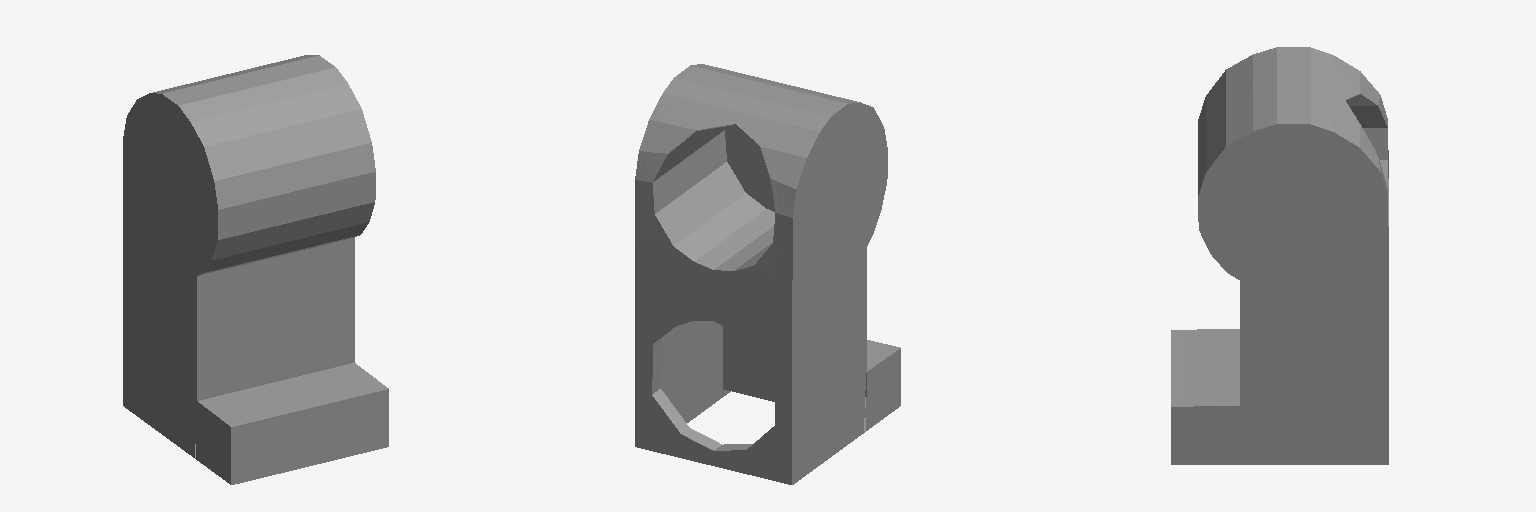
The model's file is legoLeftLeg.obj.
3 renders of one model, left to right at view 1: azimuth 30°, elevation 25°; view 2: azimuth 150°, elevation 25°; view 3: azimuth 270°, elevation 25°, orthographic.
Visible parts, largest first — view 1: Mesh_Default; view 2: Mesh_Default; view 3: Mesh_Default.
Boxes of the visible parts, <box> form: Mesh_Default: <box>123,55,388,484</box>; Mesh_Default: <box>635,64,900,484</box>; Mesh_Default: <box>1171,47,1388,464</box>.
Size of the model in its own units: 0.9038 by 1.87 by 1.08.